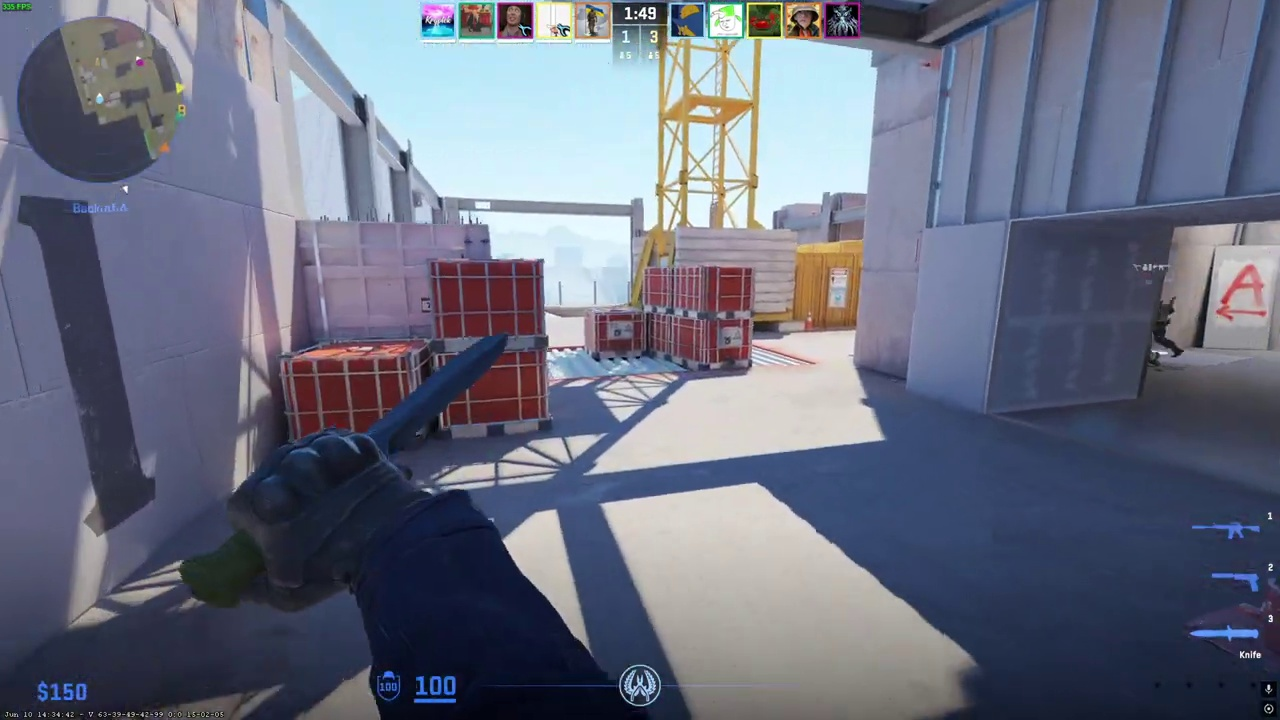CT: (1150, 296, 1183, 358)
